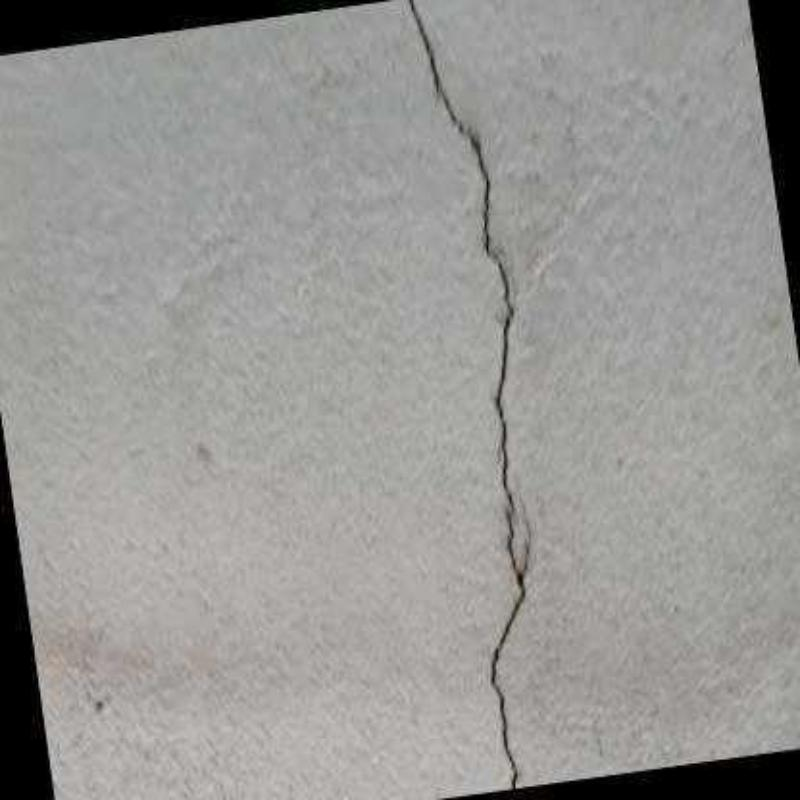pothole: (409, 2, 525, 791), (517, 496, 531, 571)
